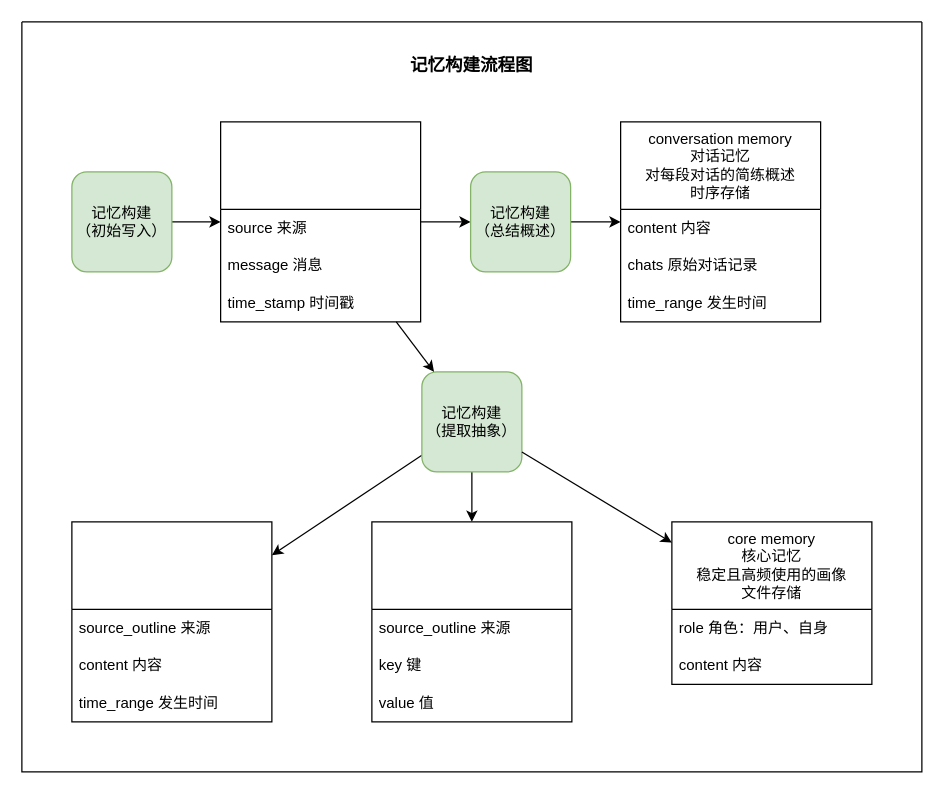
Image size: 944x794. Some labels were removed from this diagram. Each missing label, with the box of its shape:
chat 对话内容 对话原始数据 文件存储: (219, 121, 421, 322)
episodic memory 情景记忆 何人何时何地发生了什么 向量存储: (71, 521, 272, 722)
semantic memory 语义记忆 关键事实 文件存储: (371, 521, 572, 722)
